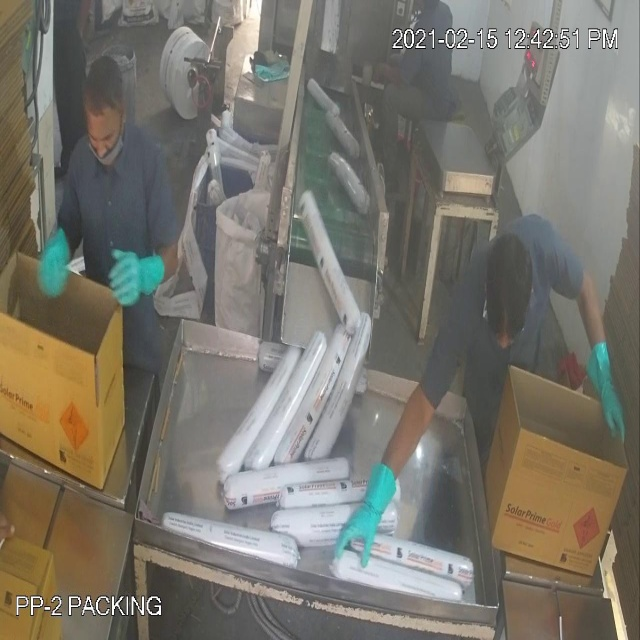Guantes: (331, 448, 399, 588), (583, 322, 630, 451), (103, 241, 170, 313), (35, 227, 79, 309)
